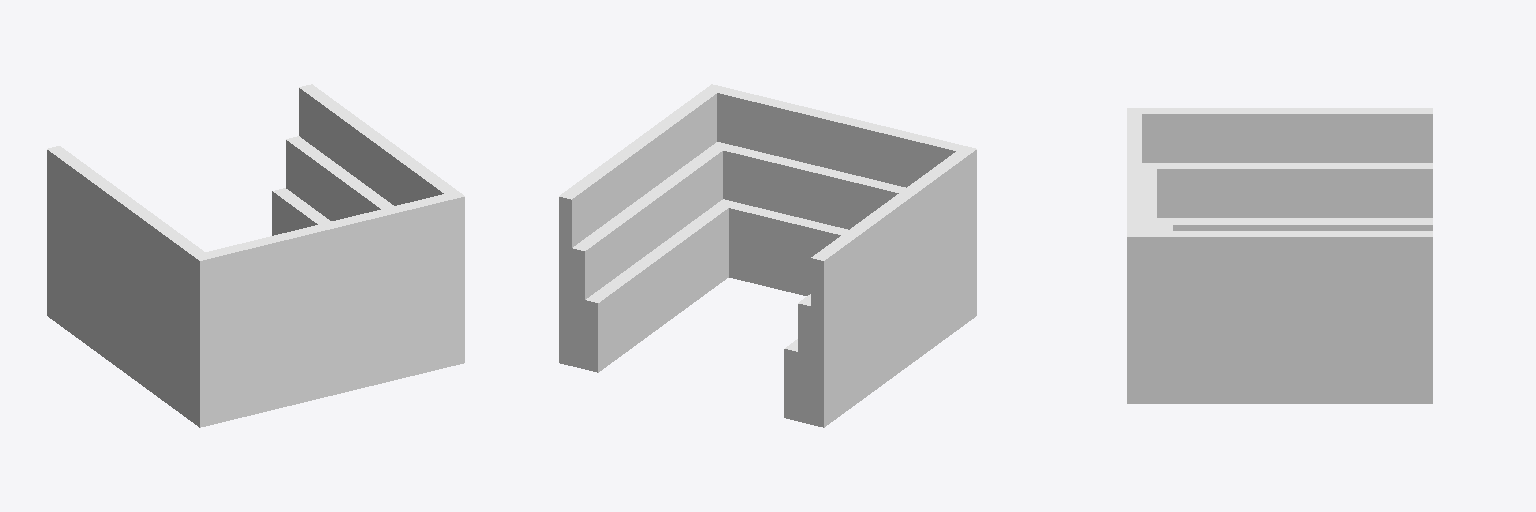
Rendered from wall_start.obj.
3 views of the same model, side by side, from view 1: azimuth 30°, elevation 25°; view 2: azimuth 150°, elevation 25°; view 3: azimuth 270°, elevation 25° (orthographic).
Visible parts, largest first — view 1: wall_start; view 2: wall_start; view 3: wall_start.
Part boxes in pixels (x1,y1,x2,y2): wall_start: (47, 84, 464, 427); wall_start: (559, 84, 976, 427); wall_start: (1127, 108, 1432, 403).
Bounding box in the file's own units: 40 × 24 × 40.